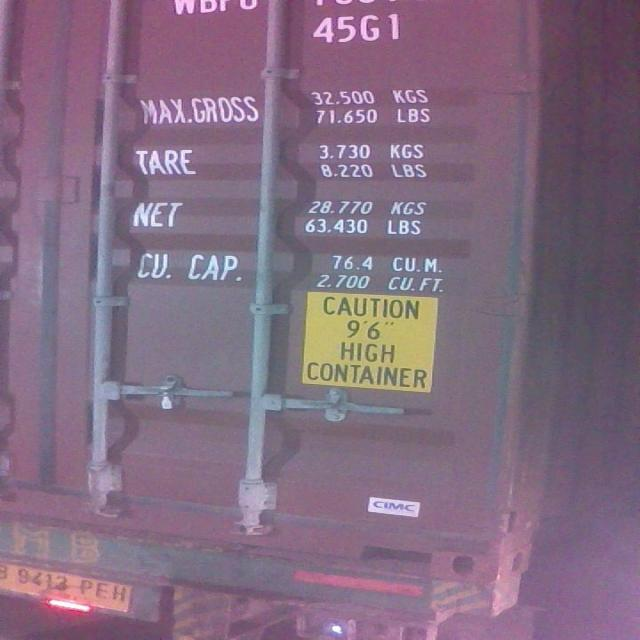seal: (158, 385, 180, 410)
